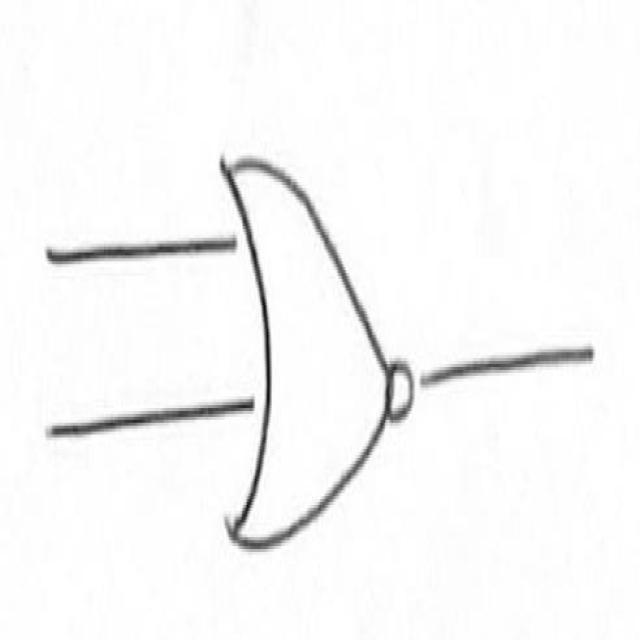NOR: (209, 115, 427, 580)
